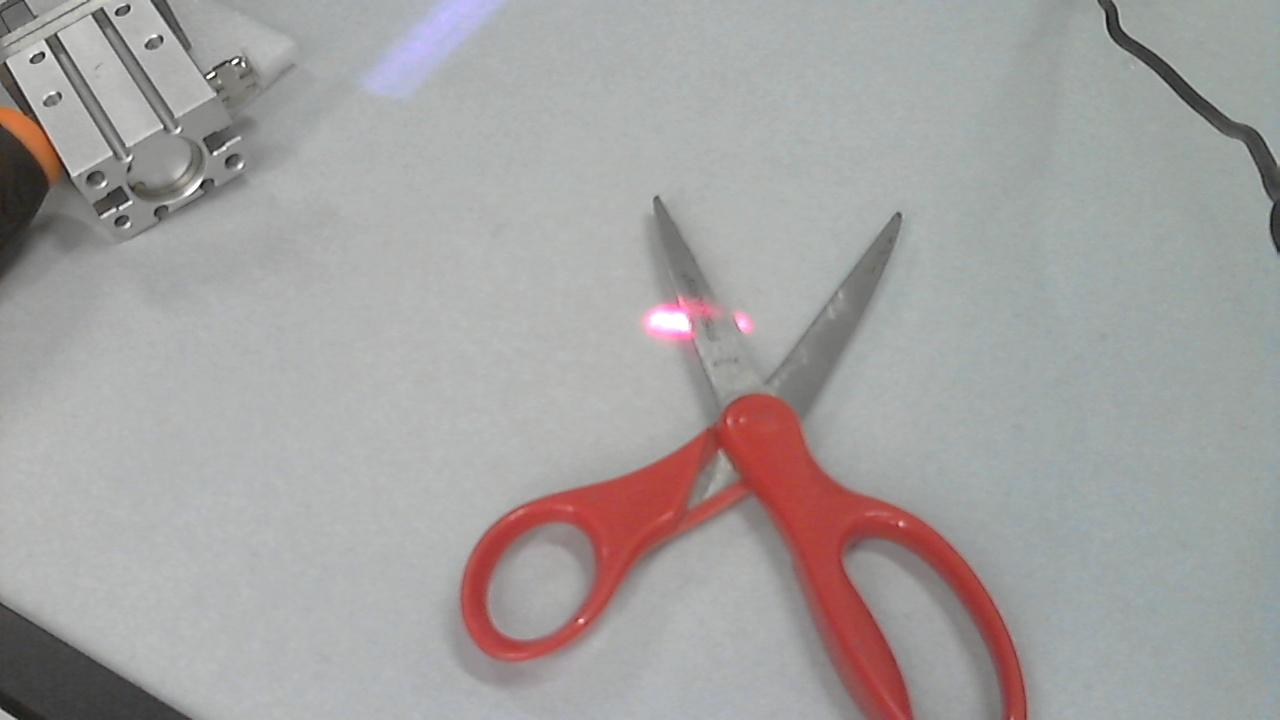Object scissors - Material metal - Pdfname tYexGlkiIXWc: (640, 298, 755, 342)
